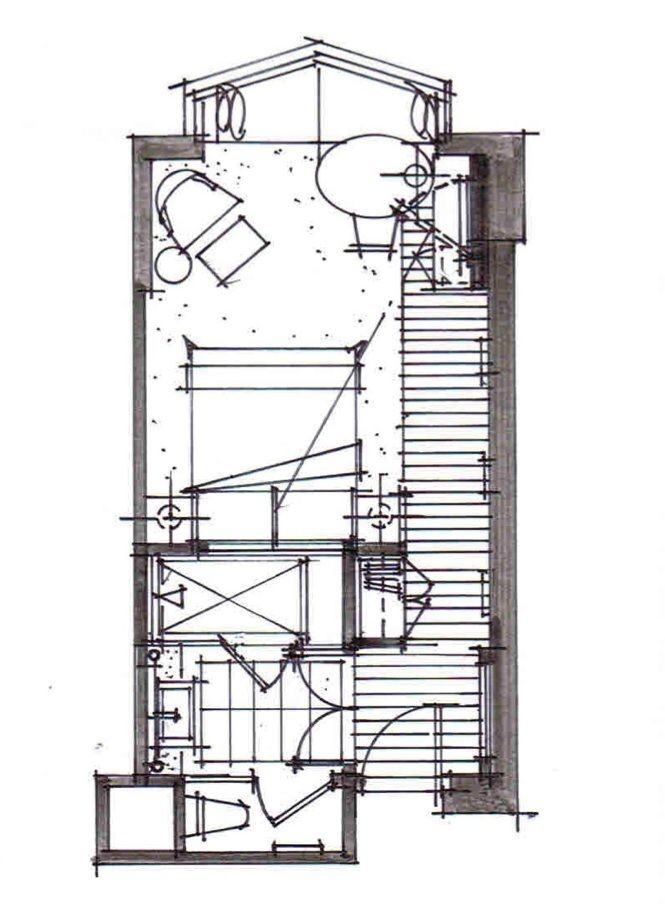door: (189, 652, 374, 771), (369, 686, 449, 797), (241, 754, 336, 833)
room: (133, 136, 489, 543), (138, 544, 360, 770), (178, 778, 354, 860), (99, 779, 183, 858)
wall: (479, 132, 544, 828), (81, 840, 367, 879), (128, 543, 169, 791), (131, 138, 154, 561), (440, 762, 527, 825), (434, 122, 547, 170), (329, 764, 372, 876), (86, 753, 123, 872), (127, 123, 219, 169), (169, 767, 211, 862), (334, 540, 369, 654), (332, 626, 423, 667), (335, 532, 415, 572), (86, 769, 189, 799), (128, 536, 221, 568)
